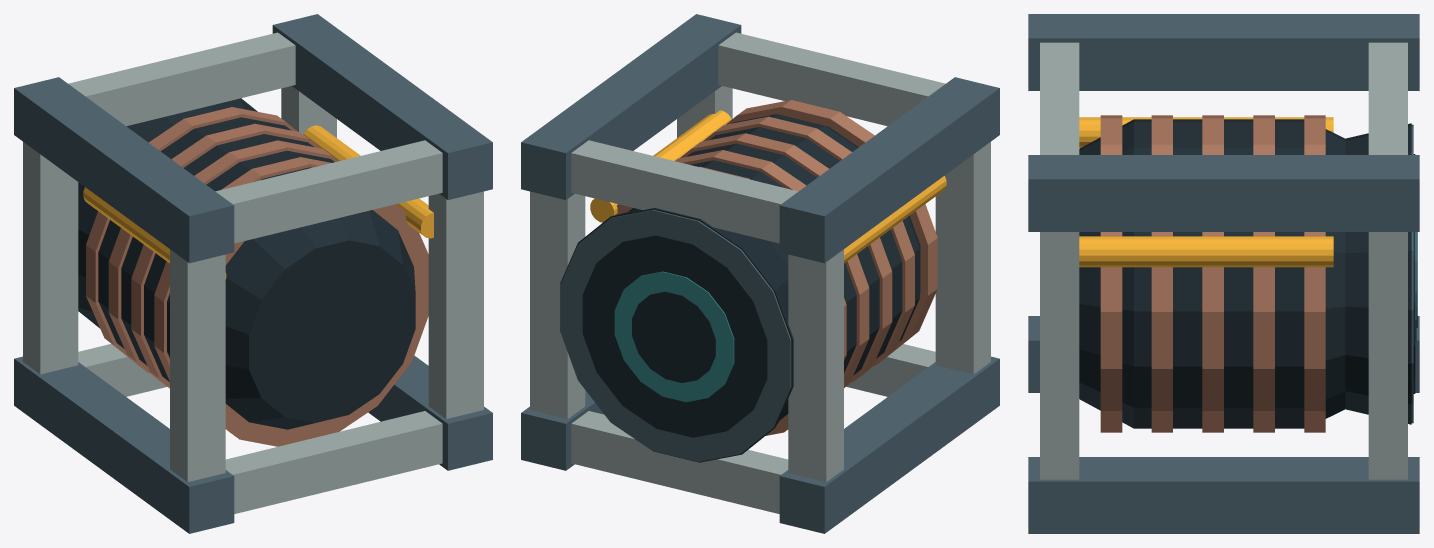
The model's file is debris-drive-core.glb.
3 views of the same model, side by side, from view 1: azimuth 30°, elevation 25°; view 2: azimuth 150°, elevation 25°; view 3: azimuth 270°, elevation 25° (orthographic). The views are drawn at different scales.
Parts seen in each view (by area): view 1: Severed drive core; view 2: Severed drive core; view 3: Severed drive core.
Boxes of the visible parts, bbox=[...] form: Severed drive core: bbox=[14, 14, 492, 533]; Severed drive core: bbox=[521, 14, 999, 533]; Severed drive core: bbox=[1028, 14, 1419, 533].
Bounding box in the file's own units: 1 × 1 × 1.
